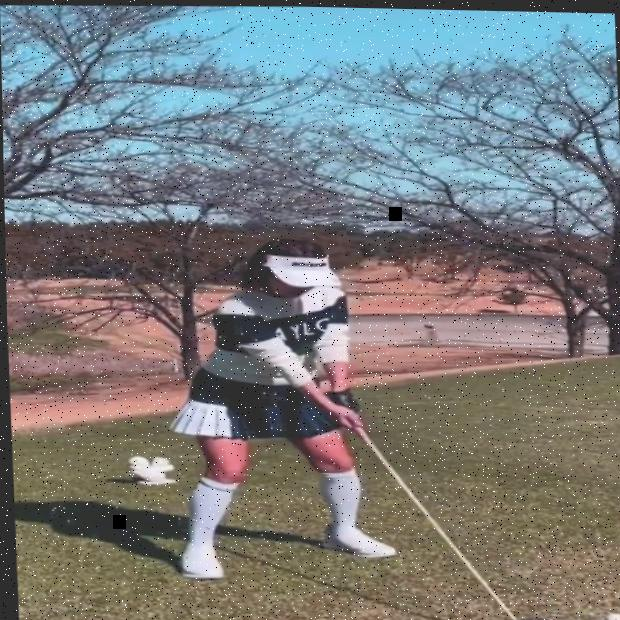ClubHead: (499, 614, 559, 620)
GolfBall: (602, 610, 620, 620)
